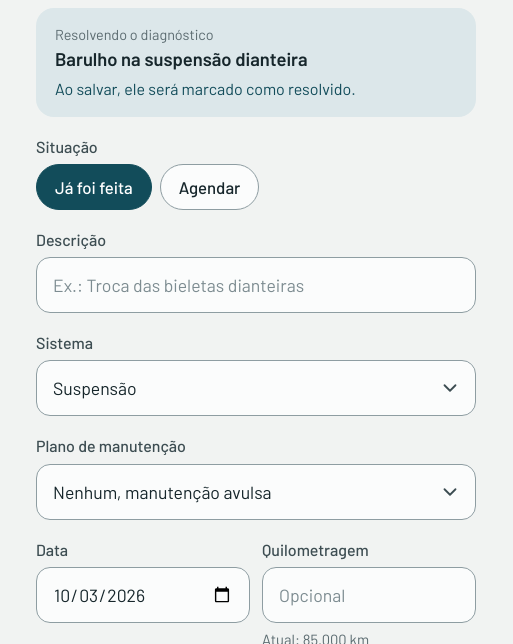
Test: Resolver com uma manutenção nova › mostra a faixa 'Resolvendo o diagnóstico', já usa o sistema dele e envia pela resolução
This screenshot has width=513, height=644.
Expected: the text "Barulho na suspensão dianteira" is shown, x1=55 y1=48 x2=308 y2=70
Expected: the text "Ao salvar, ele será marcado como resolvido." is shown, x1=55 y1=79 x2=356 y2=98
Type "Troca das bieletas" into the field labelled "Descrição" at (256, 285), box x1=36 y1=257 x2=476 y2=313
(page scrolled)
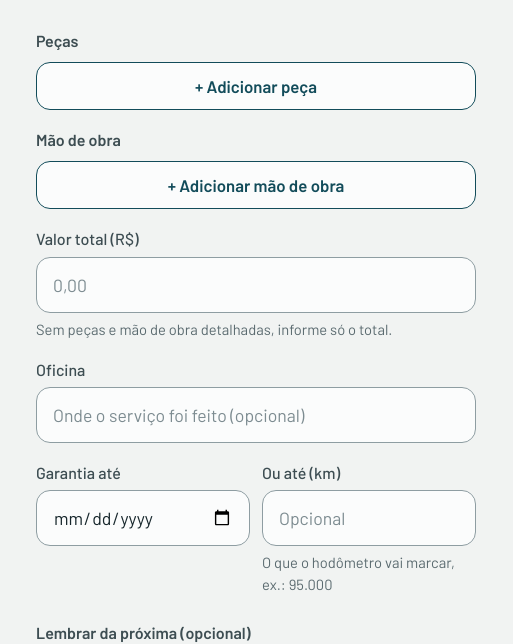
Type "280" into the field labelled "Valor total (R$)" at (256, 285), box x1=36 y1=257 x2=476 y2=313
(page scrolled)
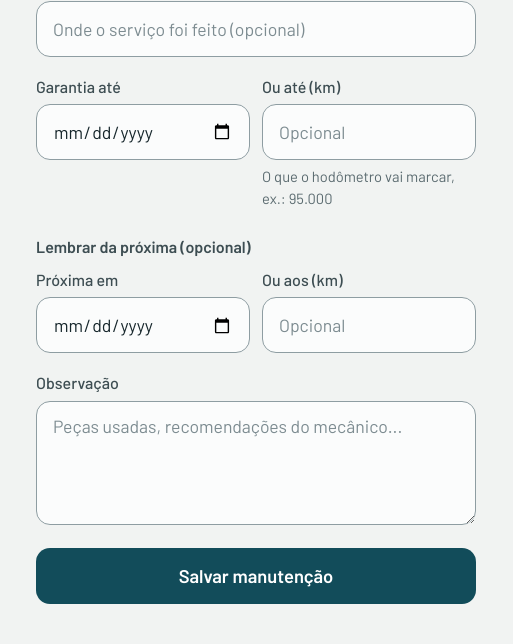
Click the button "Salvar manutenção" at (256, 576), box x1=36 y1=548 x2=476 y2=604
(page scrolled)
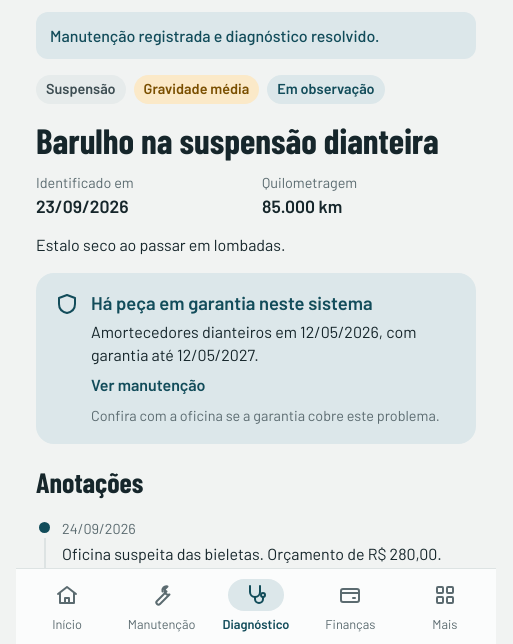
Result: the text "Manutenção registrada e diagnóstico resolvido." is shown at x1=36 y1=12 x2=476 y2=59
